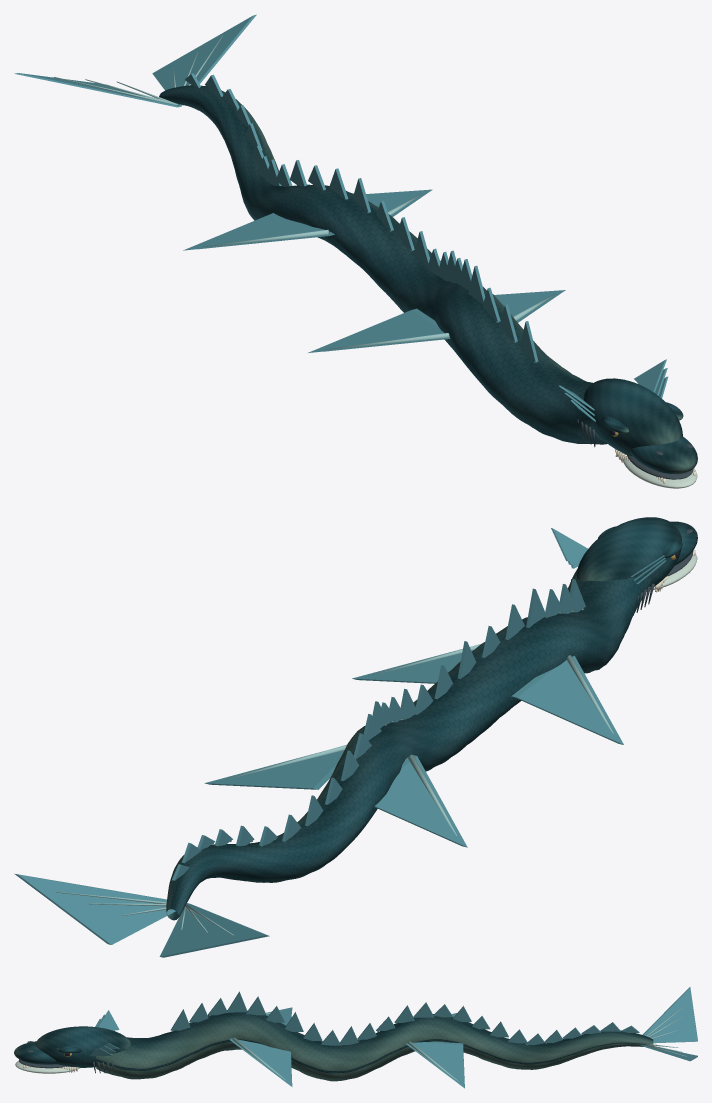
File: leviathan.glb
3 renders of one model, top to bottom at view 1: azimuth 30°, elevation 25°; view 2: azimuth 150°, elevation 25°; view 3: azimuth 270°, elevation 25°, orthographic. The views are drawn at different scales.
Visible parts, largest first — view 1: Leviathan_MarineScaleSkin_PBR, Leviathan_DeepTeal_FinMembrane, Leviathan_FinSupports; view 2: Leviathan_MarineScaleSkin_PBR, Leviathan_DeepTeal_FinMembrane, Leviathan_FinSupports; view 3: Leviathan_MarineScaleSkin_PBR, Leviathan_DeepTeal_FinMembrane, Leviathan_FinSupports, Leviathan_InnerJaw, Leviathan_LowerJaw.
Boxes of the visible parts, x1,y1,x2,y2 form: Leviathan_MarineScaleSkin_PBR: (159,85,697,474); Leviathan_DeepTeal_FinMembrane: (14,14,668,421); Leviathan_FinSupports: (53,35,555,362); Leviathan_MarineScaleSkin_PBR: (166,517,697,920); Leviathan_DeepTeal_FinMembrane: (14,528,666,957); Leviathan_FinSupports: (55,608,613,935); Leviathan_MarineScaleSkin_PBR: (14,1010,653,1081); Leviathan_DeepTeal_FinMembrane: (90,987,697,1088); Leviathan_FinSupports: (171,1004,686,1081); Leviathan_InnerJaw: (18,1041,114,1073); Leviathan_LowerJaw: (15,1061,79,1073).
Bounding box in the file's own units: 22.57 × 10.06 × 79.83.
8 materials, 1 textured.
